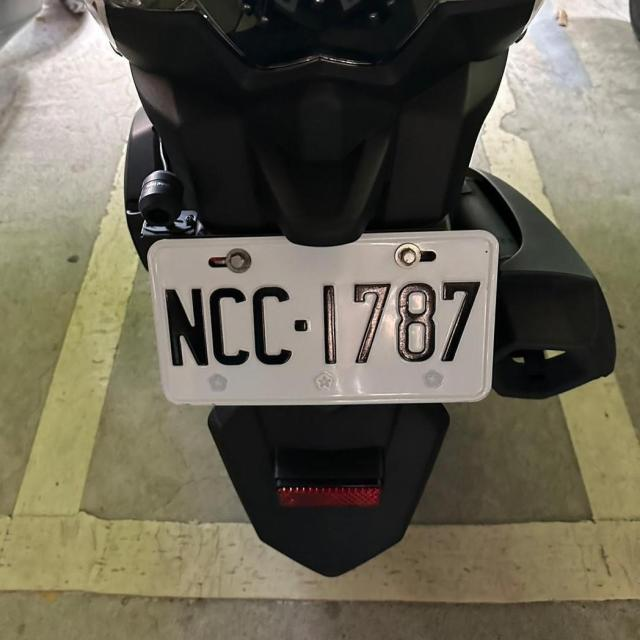W: (142, 222, 502, 412)
